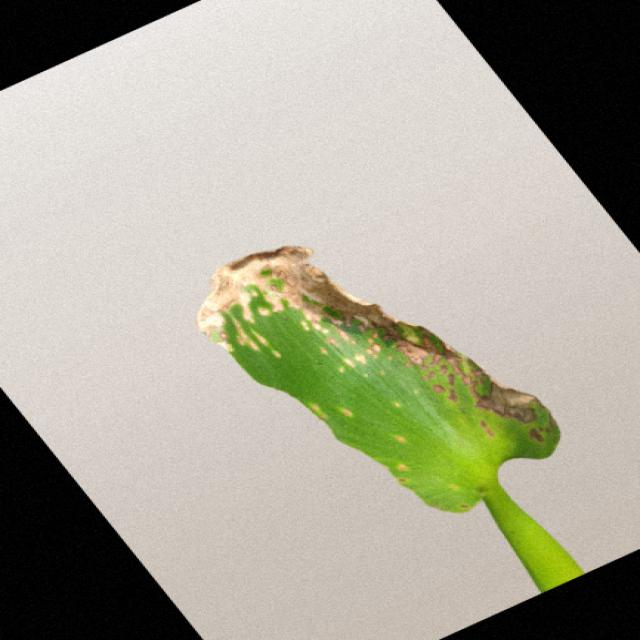daun berpenyakit bercak: (198, 246, 583, 591)
